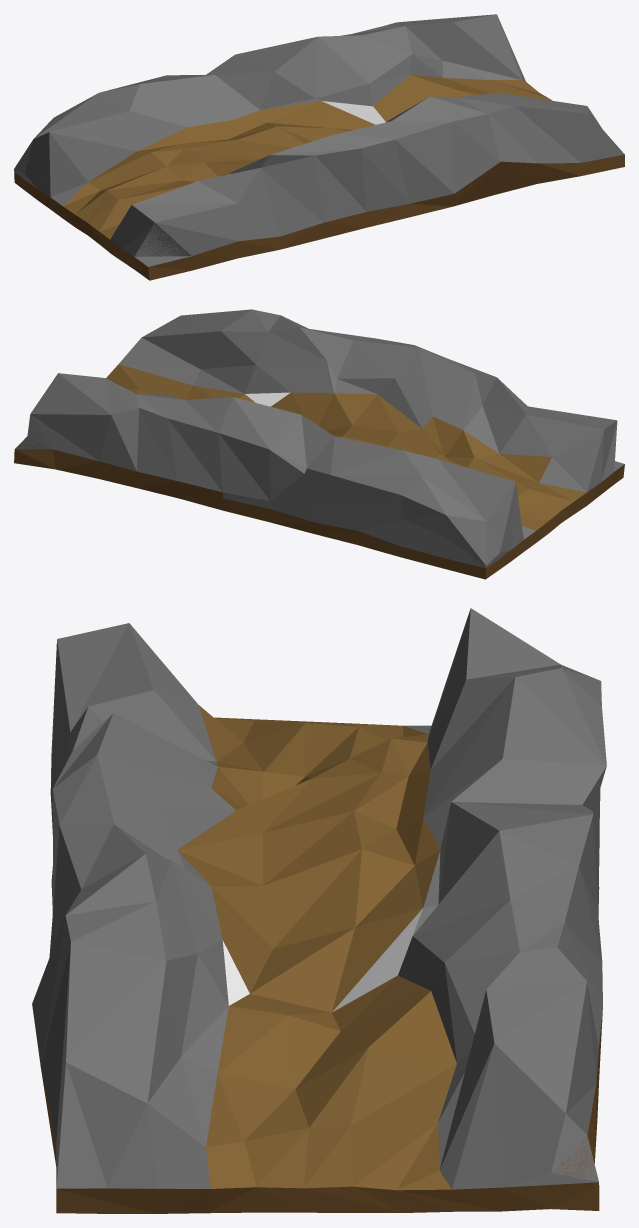
Rendered from PlaneSpring4.fbx.
The picture shows the model from 3 angles, top to bottom: view 1: azimuth 30°, elevation 25°; view 2: azimuth 150°, elevation 25°; view 3: azimuth 270°, elevation 25°; orthographic projection. The views are drawn at different scales.
Visible parts, largest first — view 1: PlaneSpring4.Cliffs, PlaneSpring4.SpringRoad, PlaneSpring4.Floor, PlaneSpring4.SnowCliffs; view 2: PlaneSpring4.Cliffs, PlaneSpring4.SpringRoad, PlaneSpring4.Floor, PlaneSpring4.Snow; view 3: PlaneSpring4.Cliffs, PlaneSpring4.SpringRoad, PlaneSpring4.Floor, PlaneSpring4.SnowCliffs.
Boxes of the visible parts, x1,y1,x2,y2 form: PlaneSpring4.Cliffs: [14, 14, 624, 266]; PlaneSpring4.SpringRoad: [63, 75, 552, 239]; PlaneSpring4.Floor: [14, 154, 624, 280]; PlaneSpring4.SnowCliffs: [322, 101, 385, 124]; PlaneSpring4.Cliffs: [15, 309, 624, 568]; PlaneSpring4.SpringRoad: [106, 364, 586, 530]; PlaneSpring4.Floor: [14, 437, 624, 579]; PlaneSpring4.Snow: [245, 392, 290, 406]; PlaneSpring4.Cliffs: [32, 608, 606, 1189]; PlaneSpring4.SpringRoad: [177, 705, 456, 1190]; PlaneSpring4.Floor: [41, 717, 602, 1213]; PlaneSpring4.SnowCliffs: [333, 908, 422, 1011].
Bounding box in the file's own units: 40762 × 7830 × 21130.
